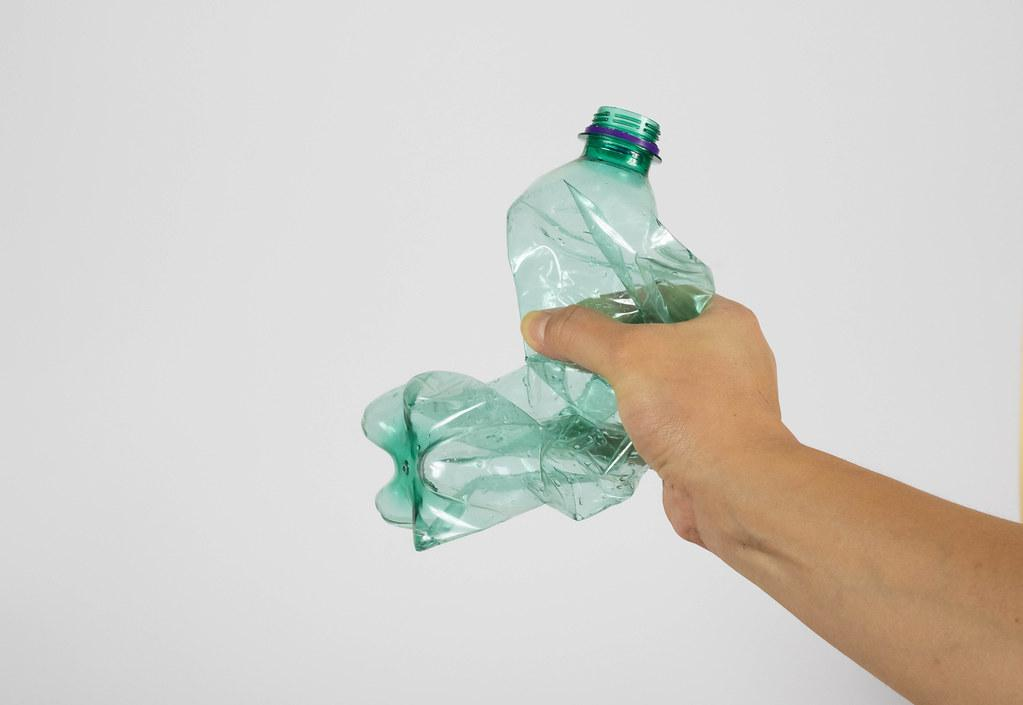bottle: (352, 89, 723, 580)
